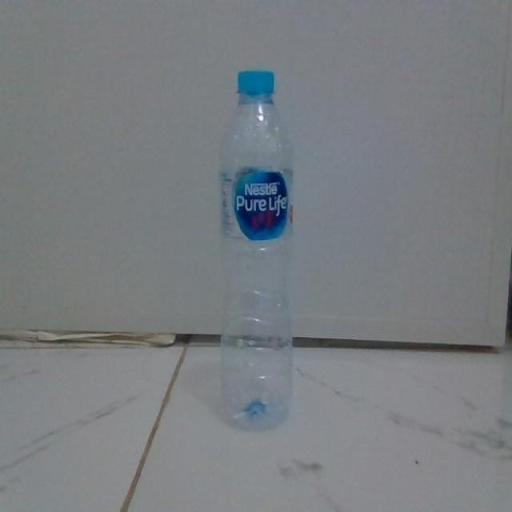bottle: (212, 62, 303, 448)
